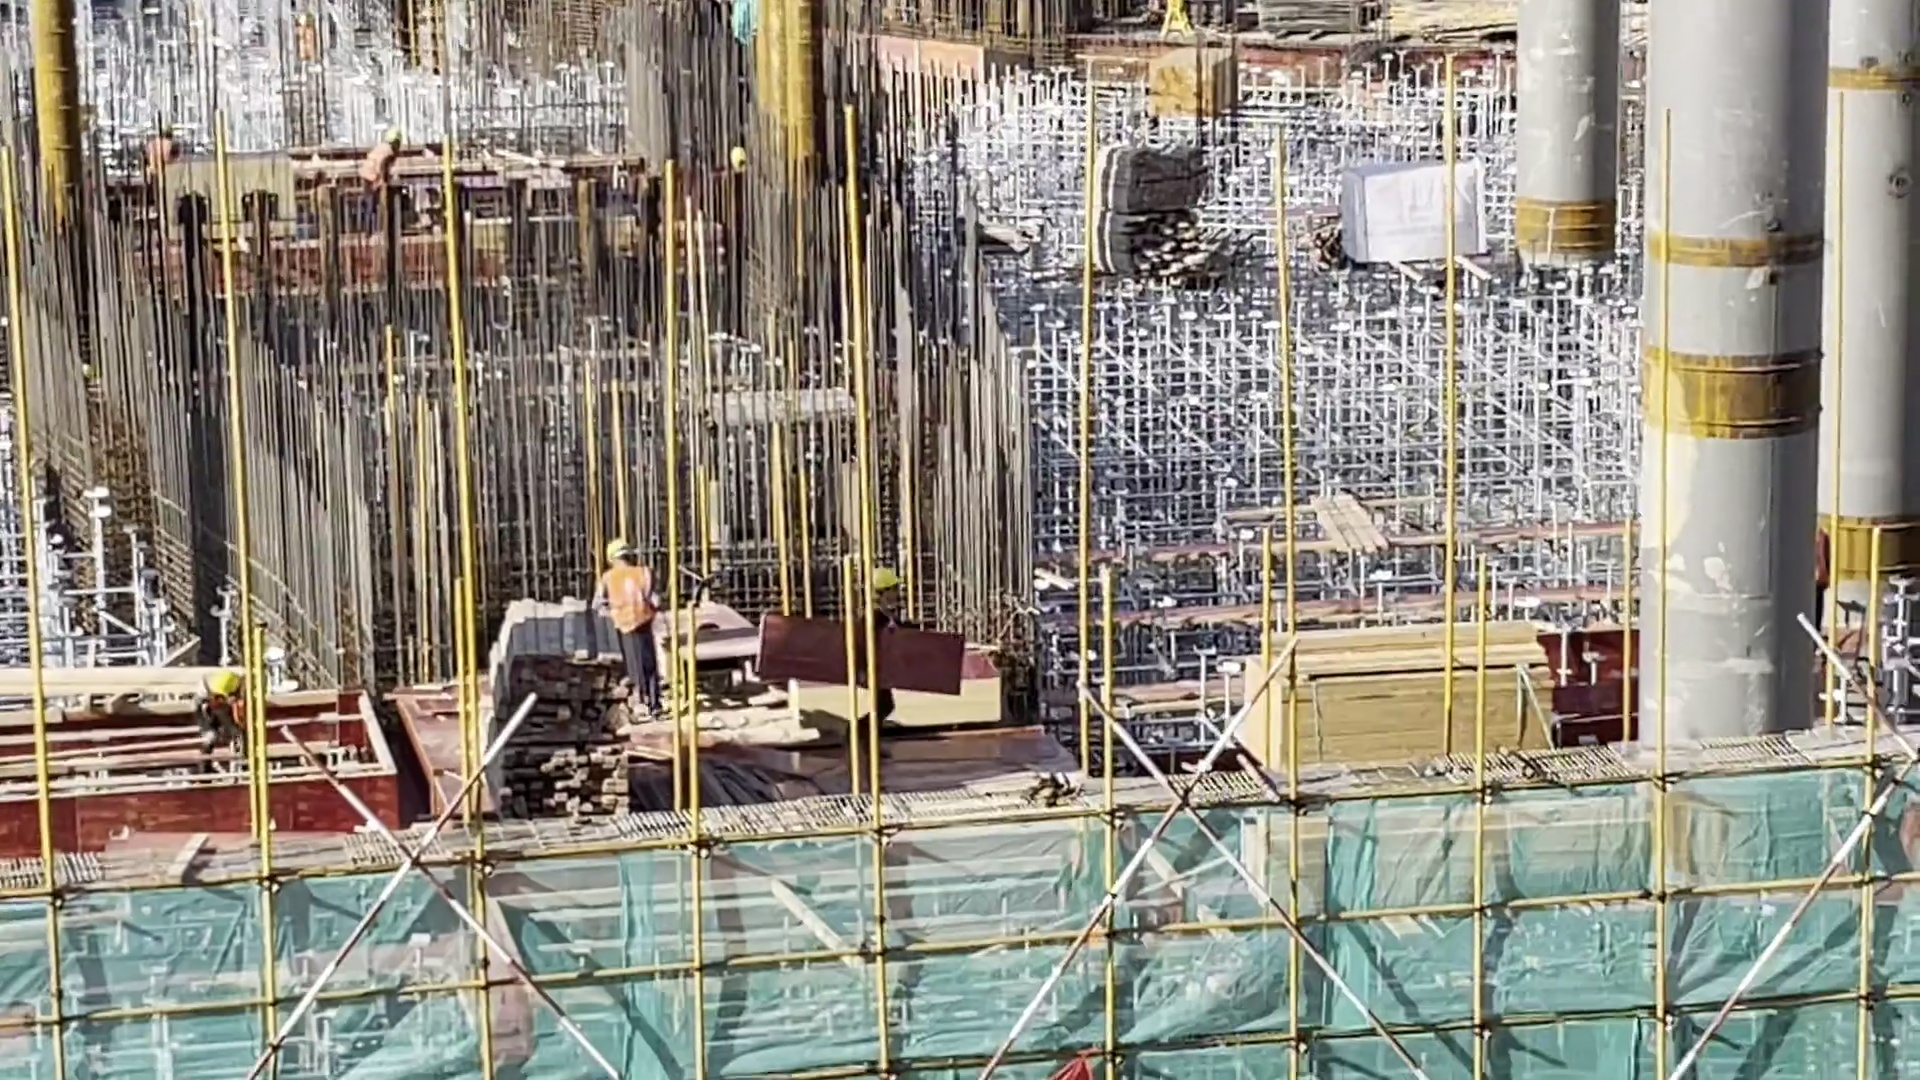helmet: (210, 658, 244, 700), (599, 534, 634, 561)
person: (578, 526, 681, 723), (181, 660, 258, 756)
vest: (597, 563, 656, 632)
wood: (1218, 619, 1575, 790)
